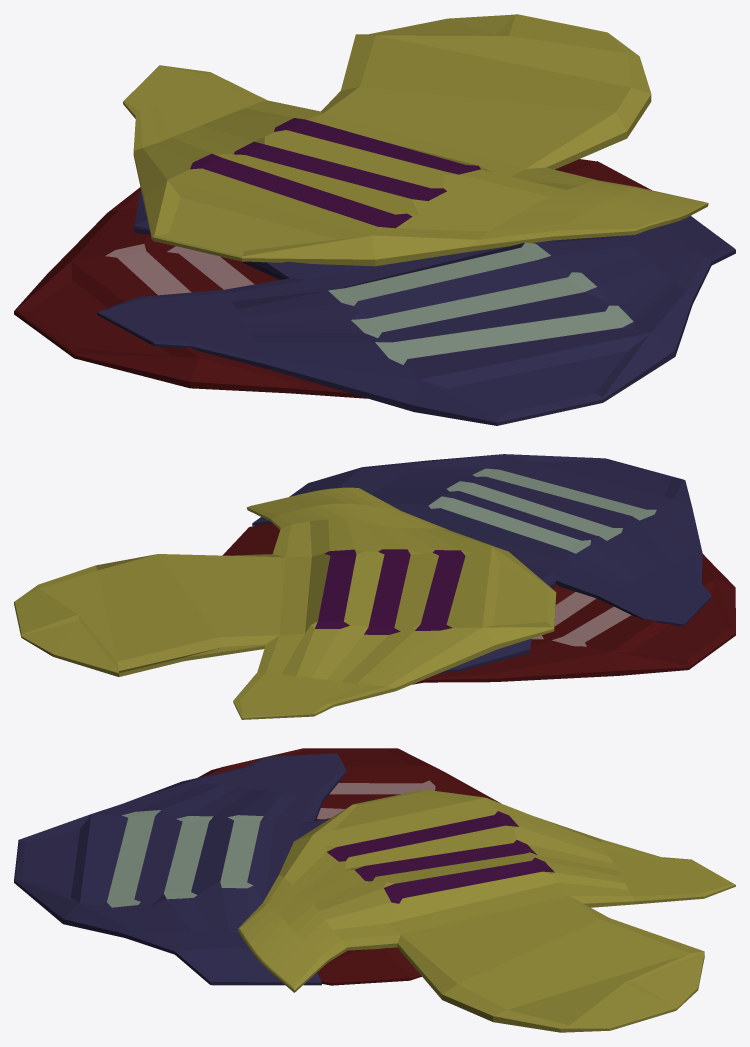
The model's file is Shirts.fbx.
3 views of the same model, one above another, from view 1: azimuth 30°, elevation 25°; view 2: azimuth 150°, elevation 25°; view 3: azimuth 270°, elevation 25° (orthographic). The views are drawn at different scales.
Visible parts, largest first — view 1: Cube.005, Cube.004, Cube.003; view 2: Cube.005, Cube.004, Cube.003; view 3: Cube.005, Cube.004, Cube.003.
Part boxes in pixels (<box>): Cube.005: <box>123,14,708,266</box>; Cube.004: <box>97,190,735,425</box>; Cube.003: <box>14,159,651,398</box>; Cube.005: <box>14,487,556,719</box>; Cube.004: <box>252,454,711,673</box>; Cube.003: <box>222,523,735,684</box>; Cube.005: <box>238,789,735,1032</box>; Cube.004: <box>14,753,346,985</box>; Cube.003: <box>198,748,500,985</box>.
Bounding box in the file's own units: 574 × 36.51 × 621.
